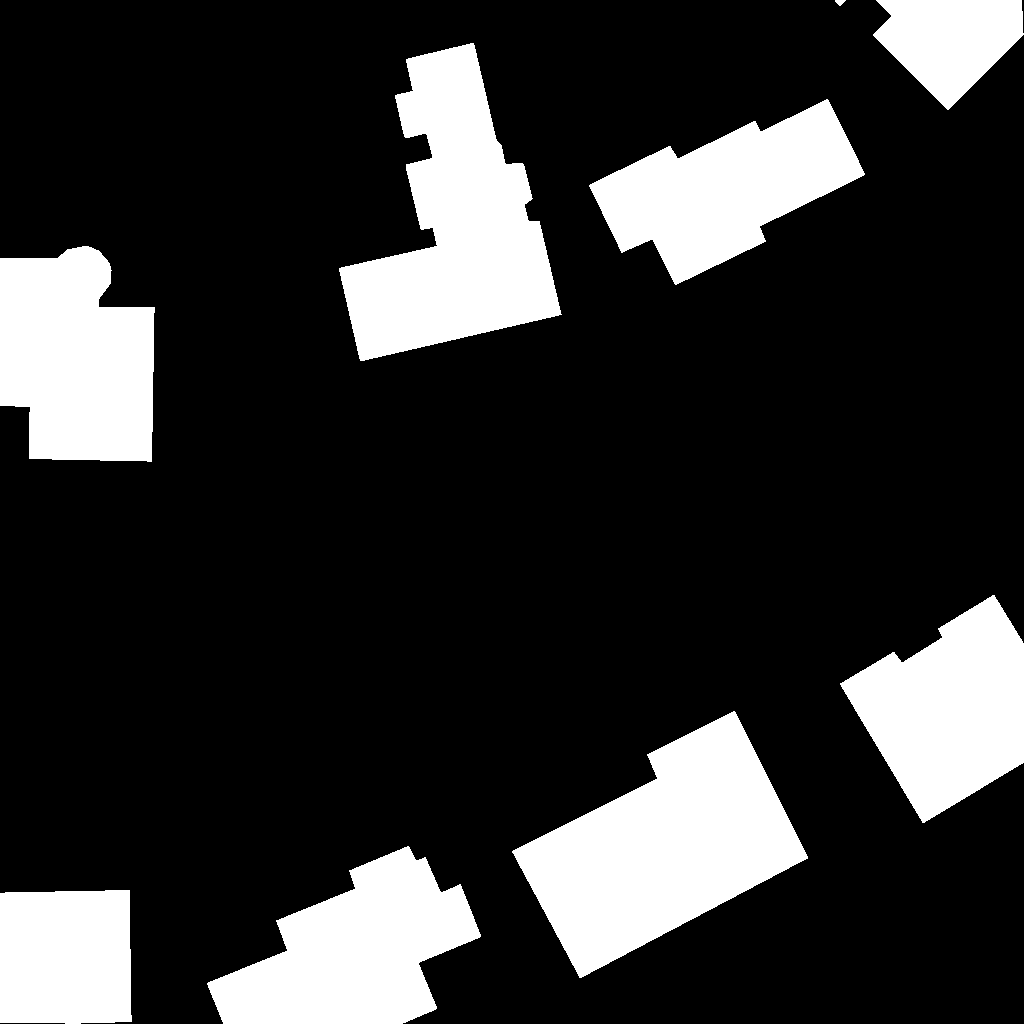building: (512, 711, 809, 979), (339, 43, 562, 362), (589, 99, 866, 286), (207, 846, 482, 1024), (840, 595, 1024, 824), (0, 246, 155, 462), (834, 0, 1024, 111), (0, 890, 132, 1024)
